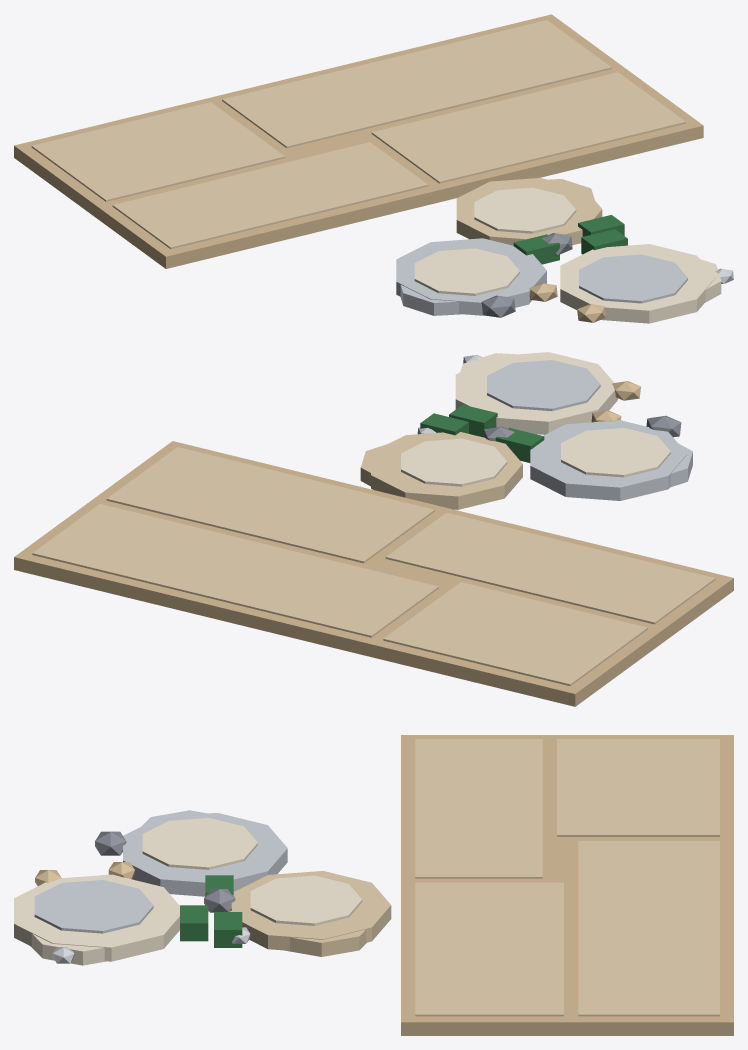
File: CatCafe_Lawn_Path_SteppingStones.glb
The picture shows the model from 3 angles, top to bottom: view 1: azimuth 30°, elevation 25°; view 2: azimuth 150°, elevation 25°; view 3: azimuth 270°, elevation 25°; orthographic projection. The views are drawn at different scales.
Visible parts, largest first — view 1: CatCafe_Lawn_Path_SteppingStones; view 2: CatCafe_Lawn_Path_SteppingStones; view 3: CatCafe_Lawn_Path_SteppingStones.
Boxes of the visible parts, x1,y1,x2,y2 form: CatCafe_Lawn_Path_SteppingStones: (14,14,733,323); CatCafe_Lawn_Path_SteppingStones: (14,352,733,706); CatCafe_Lawn_Path_SteppingStones: (14,735,733,1035).
Bounding box in the file's own units: 4.8 × 0.187 × 5.08.
1 material, 1 textured.
